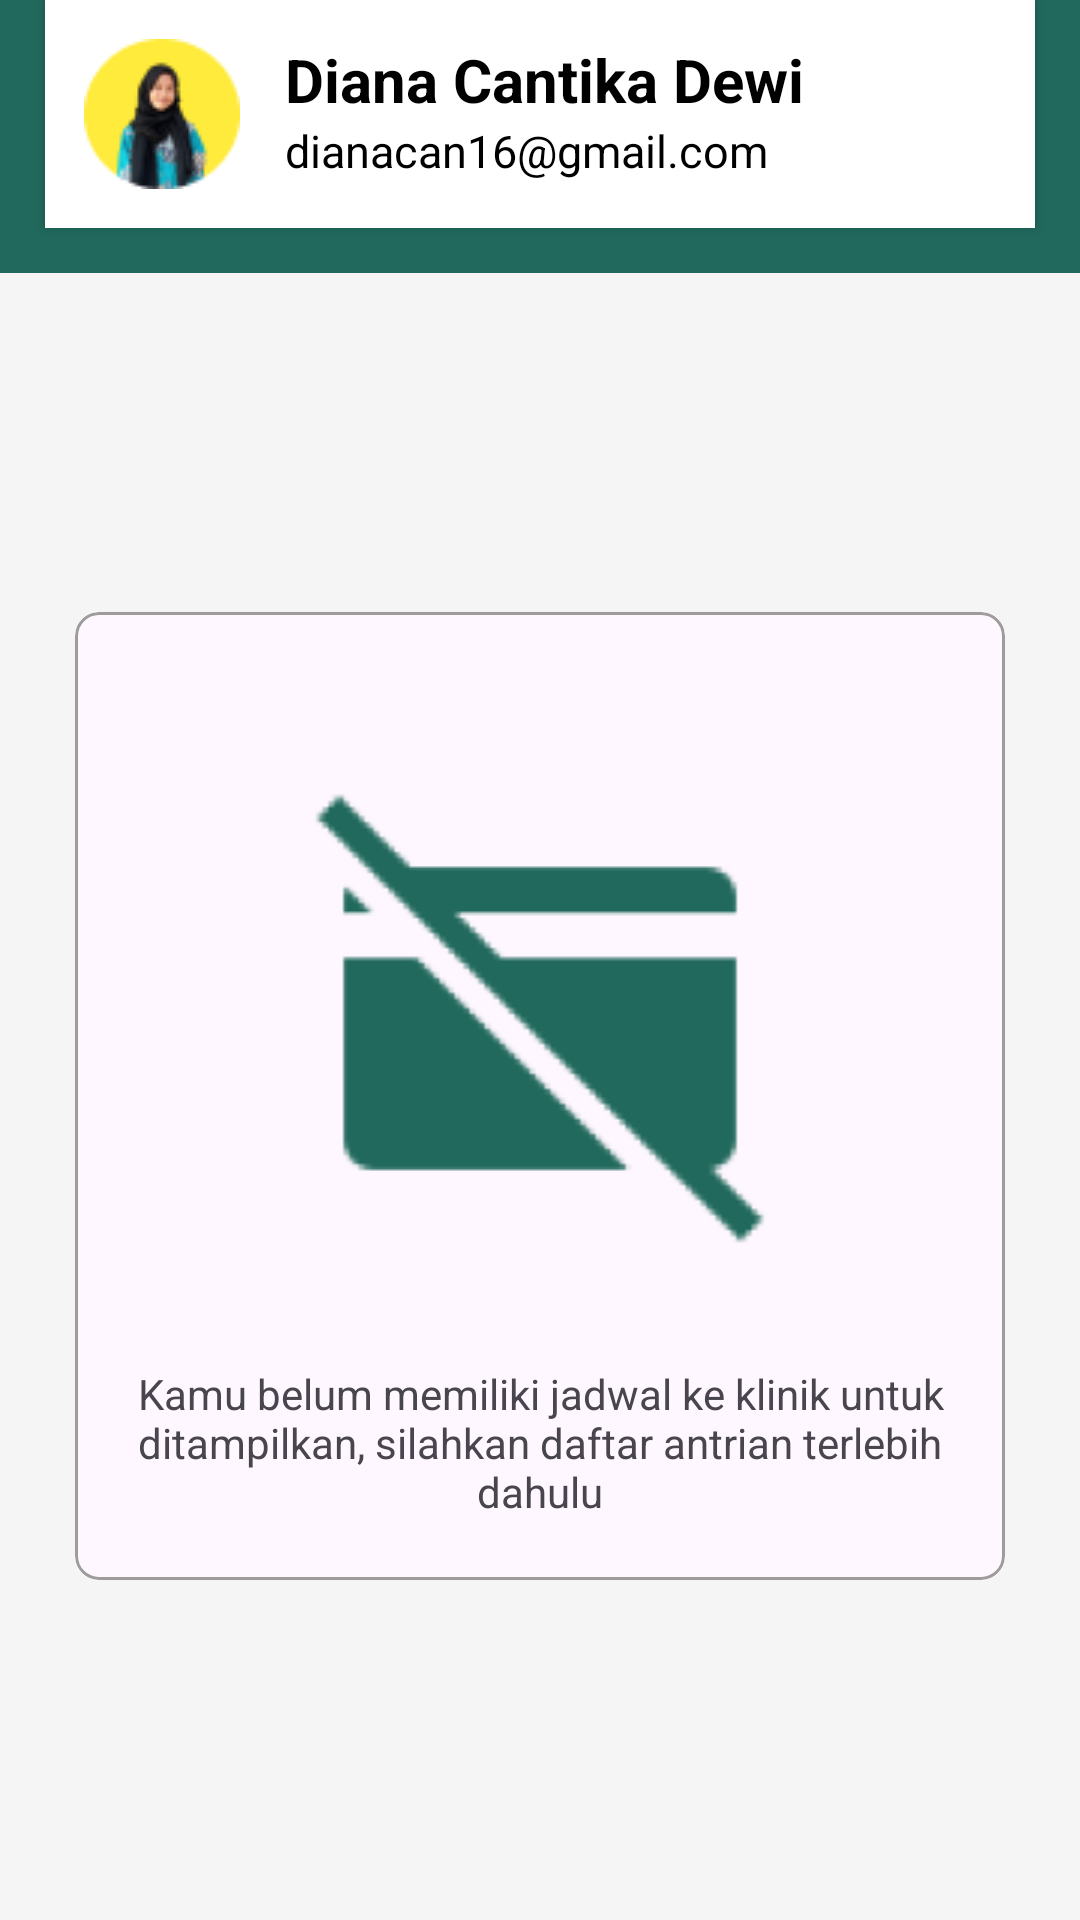

Locate icon controls on the screen. Image size 1080px×1920px, boxes as bbox(x1, y1, x2, y2).
potoprofil: bbox(84, 39, 240, 189)
